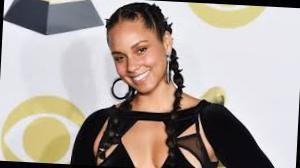Sober: (110, 25, 167, 94)
